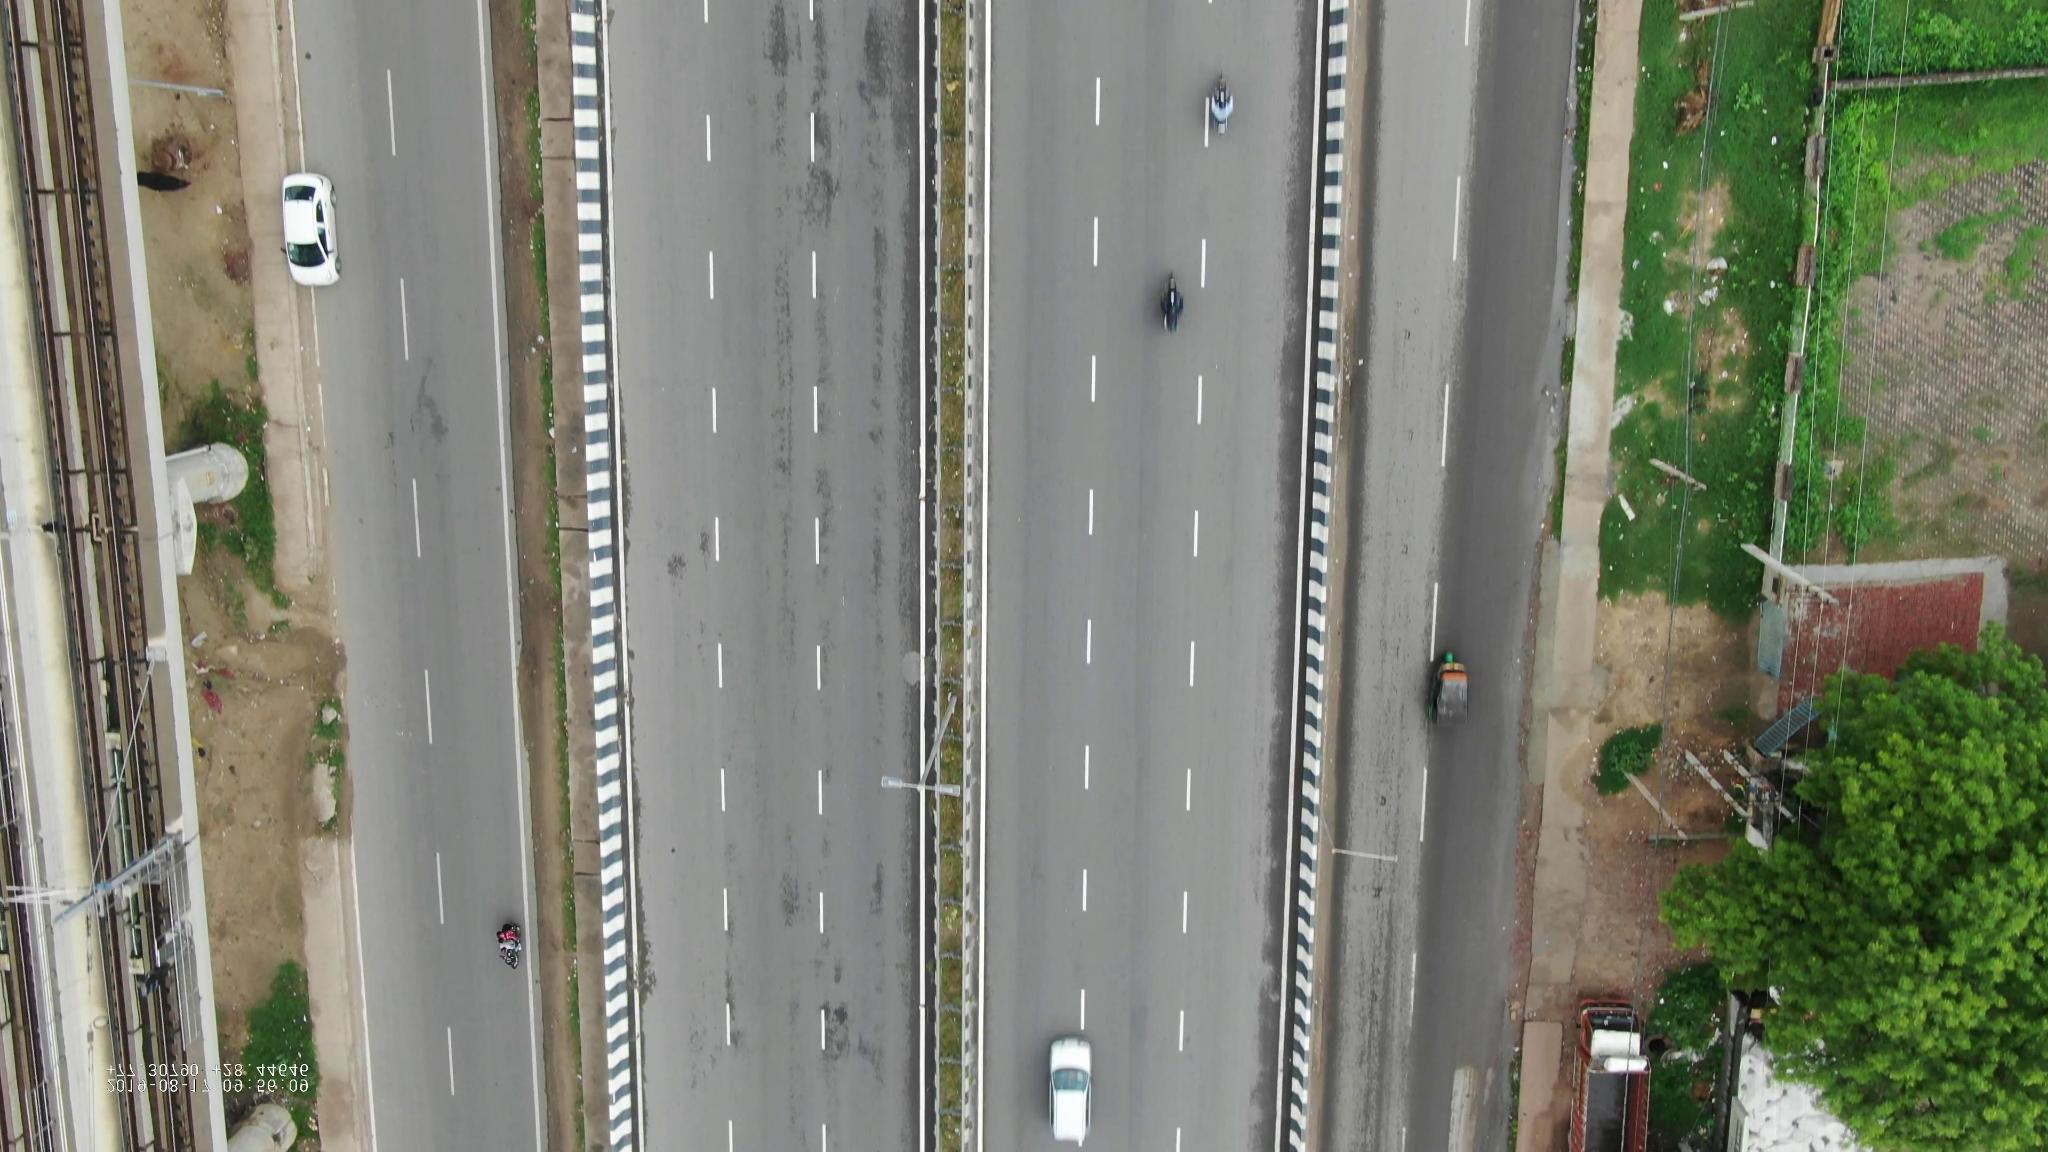Ravelling: (744, 229, 900, 587), (791, 948, 866, 1099)
